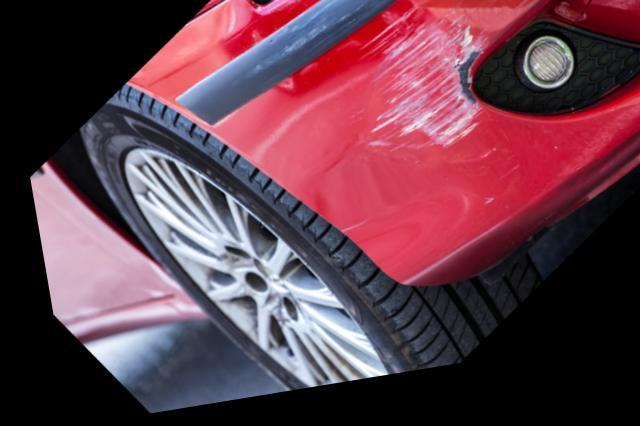scratch: (354, 0, 558, 178), (235, 0, 394, 89)
